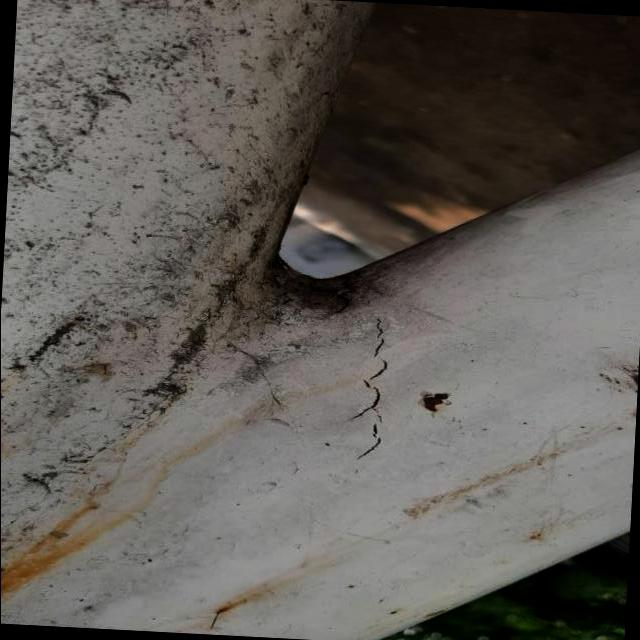defect: (340, 309, 398, 466)
